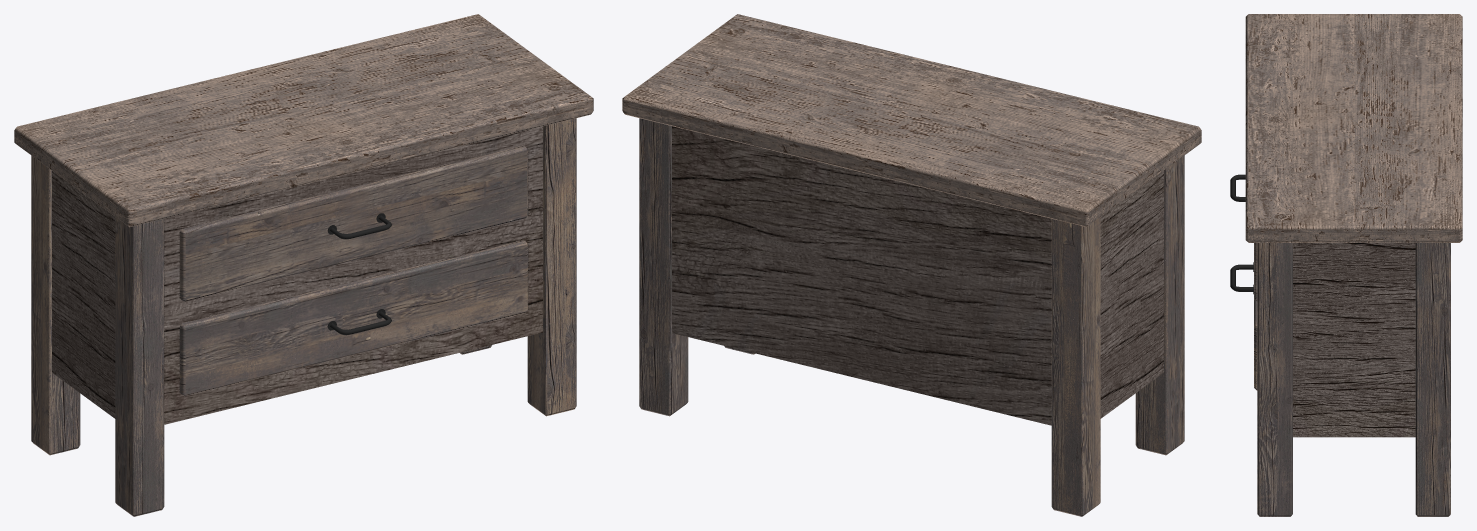
File: WoodDrawer01.FBX
The picture shows the model from 3 angles, left to right: view 1: azimuth 30°, elevation 25°; view 2: azimuth 150°, elevation 25°; view 3: azimuth 270°, elevation 25°; orthographic projection. The views are drawn at different scales.
Parts seen in each view (by area): view 1: WoodDrawer01; view 2: WoodDrawer01; view 3: WoodDrawer01.
Boxes of the visible parts, bbox=[...] form: WoodDrawer01: bbox=[14, 14, 593, 516]; WoodDrawer01: bbox=[622, 14, 1201, 516]; WoodDrawer01: bbox=[1230, 14, 1462, 516].
Bounding box in the file's own units: 40.64 × 18.66 × 26.22.
